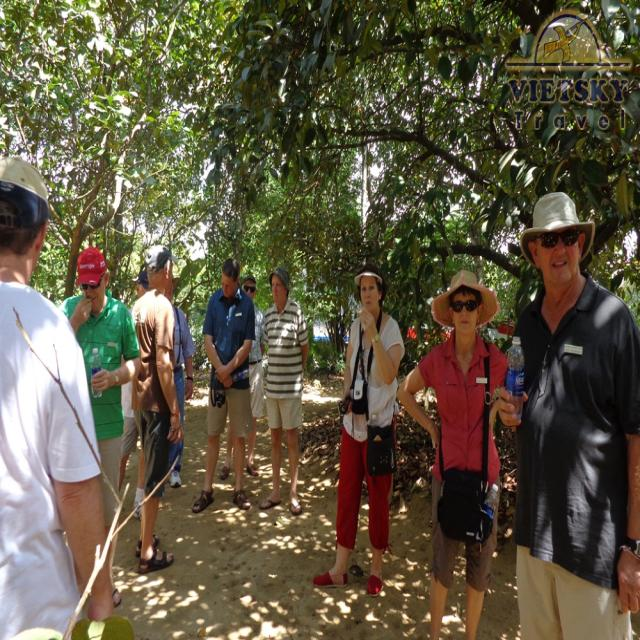body: (496, 190, 639, 639), (0, 151, 122, 639), (396, 269, 508, 640), (310, 261, 406, 600), (57, 244, 142, 610), (128, 242, 186, 577), (190, 256, 256, 515), (256, 266, 312, 516), (218, 274, 268, 481), (113, 270, 152, 524), (164, 276, 196, 490)
